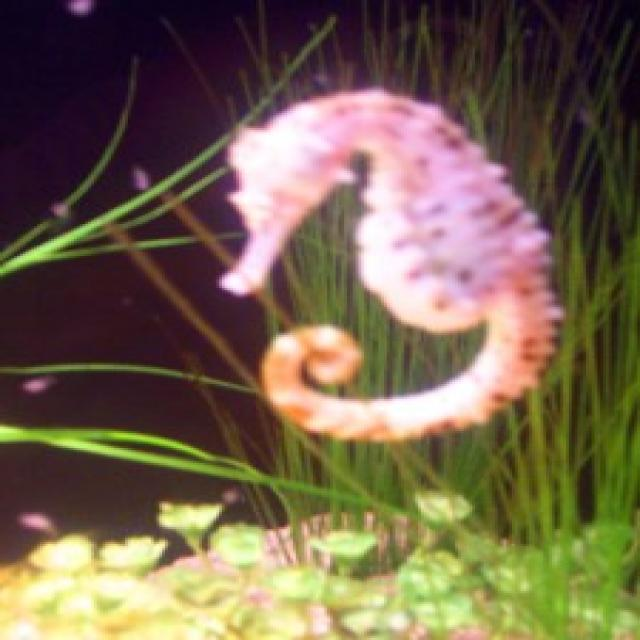Seahorse: (211, 81, 570, 448)
